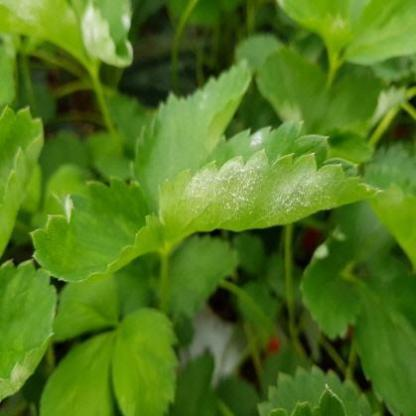Strawberry_Powdery_Mildew_Leaf: (158, 118, 384, 252), (130, 60, 252, 218), (28, 175, 168, 283), (0, 259, 59, 403), (77, 0, 136, 70)
